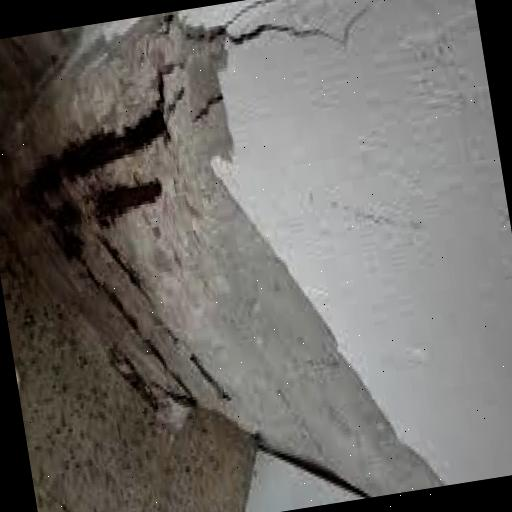spalling: (0, 11, 446, 494), (231, 0, 371, 51)
